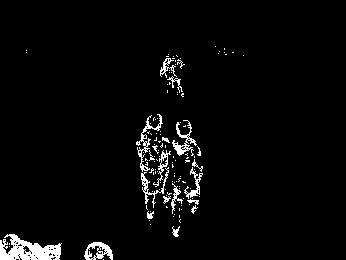person: (167, 116, 203, 237), (133, 112, 171, 221), (159, 53, 189, 103)
